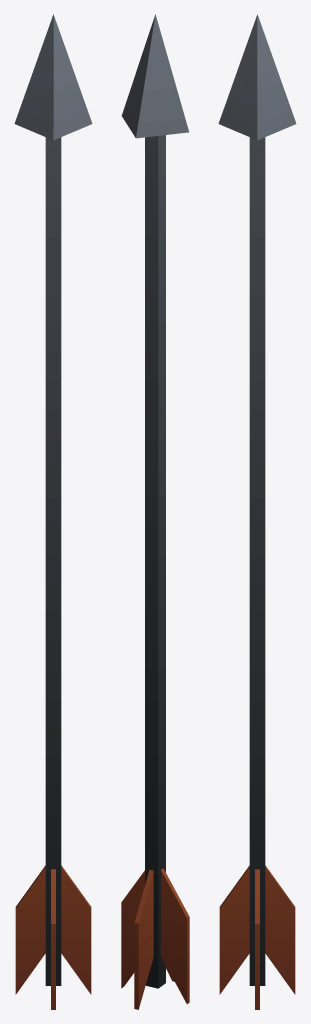
File: Arrow_01.fbx
The picture shows the model from 3 angles, left to right: view 1: azimuth 90°, elevation 25°; view 2: azimuth 150°, elevation 25°; view 3: azimuth 270°, elevation 25°; orthographic projection.
Visible parts, largest first — view 1: Arrow_01; view 2: Arrow_01; view 3: Arrow_01.
Boxes of the visible parts, bbox=[...] form: Arrow_01: bbox=[14, 14, 92, 1009]; Arrow_01: bbox=[121, 14, 189, 1009]; Arrow_01: bbox=[218, 14, 296, 1009].
Size of the model in its own units: 4.83 by 66.95 by 4.83.
